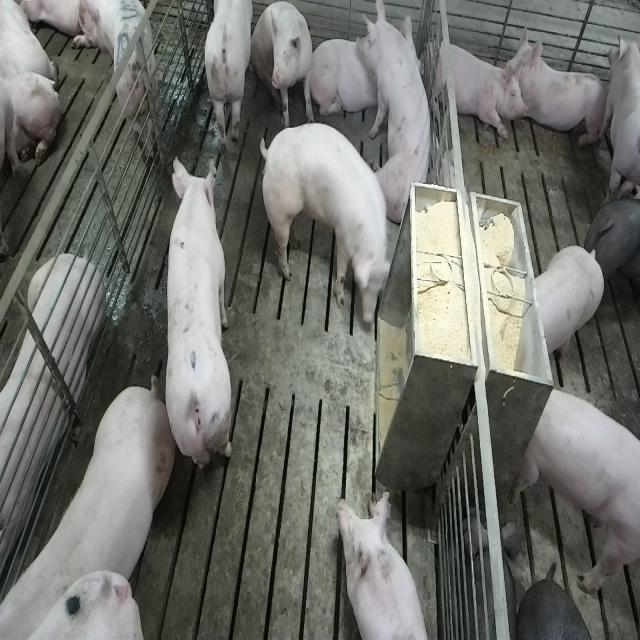Sitting: (363, 5, 438, 228), (251, 1, 316, 124)
Standing: (257, 118, 393, 324), (514, 383, 639, 602), (162, 155, 234, 479), (532, 243, 604, 363), (201, 2, 255, 156), (585, 190, 640, 317), (606, 26, 640, 201)
Sternal_lying: (0, 248, 103, 580), (336, 489, 434, 640), (511, 34, 609, 150), (425, 30, 526, 142), (310, 24, 392, 121)
